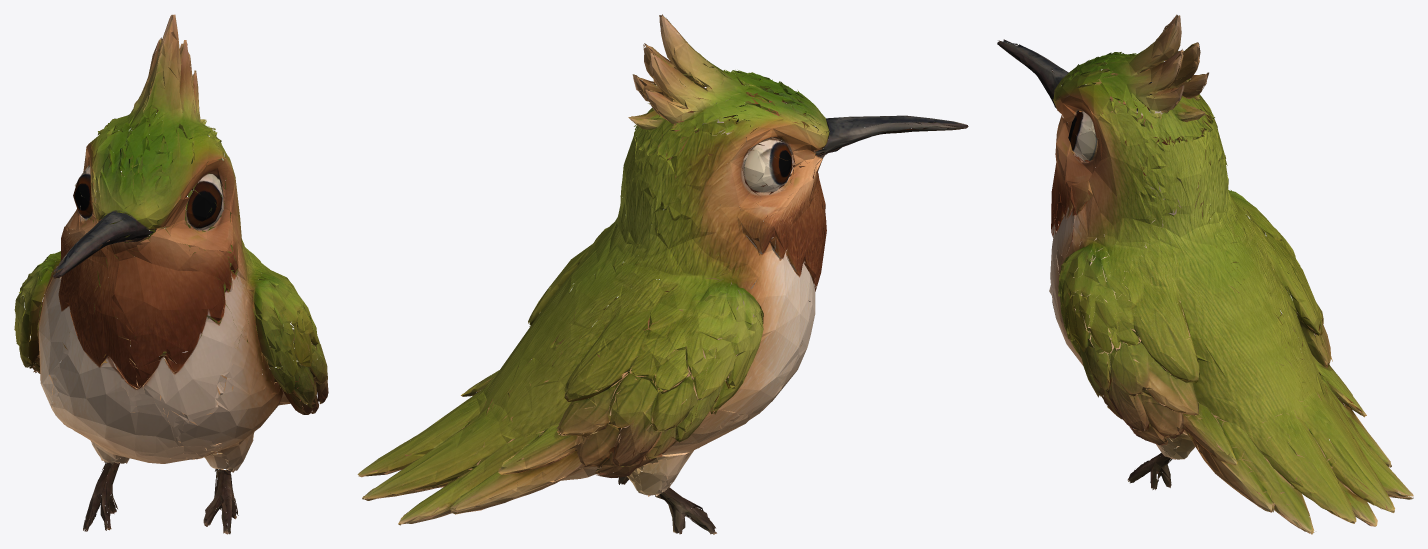
Rendered from pajarito.fbx.
3 renders of one model, left to right at view 1: azimuth 30°, elevation 25°; view 2: azimuth 150°, elevation 25°; view 3: azimuth 270°, elevation 25°, orthographic. The views are drawn at different scales.
Visible parts, largest first — view 1: pajarito; view 2: pajarito; view 3: pajarito.
Part boxes in pixels (x1=…): pajarito: x1=14, y1=14, x2=328, y2=534; pajarito: x1=357, y1=14, x2=968, y2=534; pajarito: x1=997, y1=14, x2=1413, y2=534.
Bounding box in the file's own units: 1.81 × 1.98 × 1.63.
Materials: 1 (1 with a texture image).
